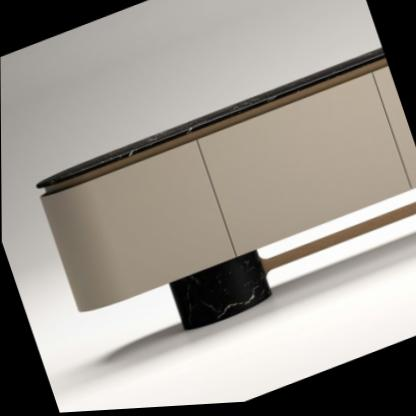Sideboard: (35, 52, 416, 333)
